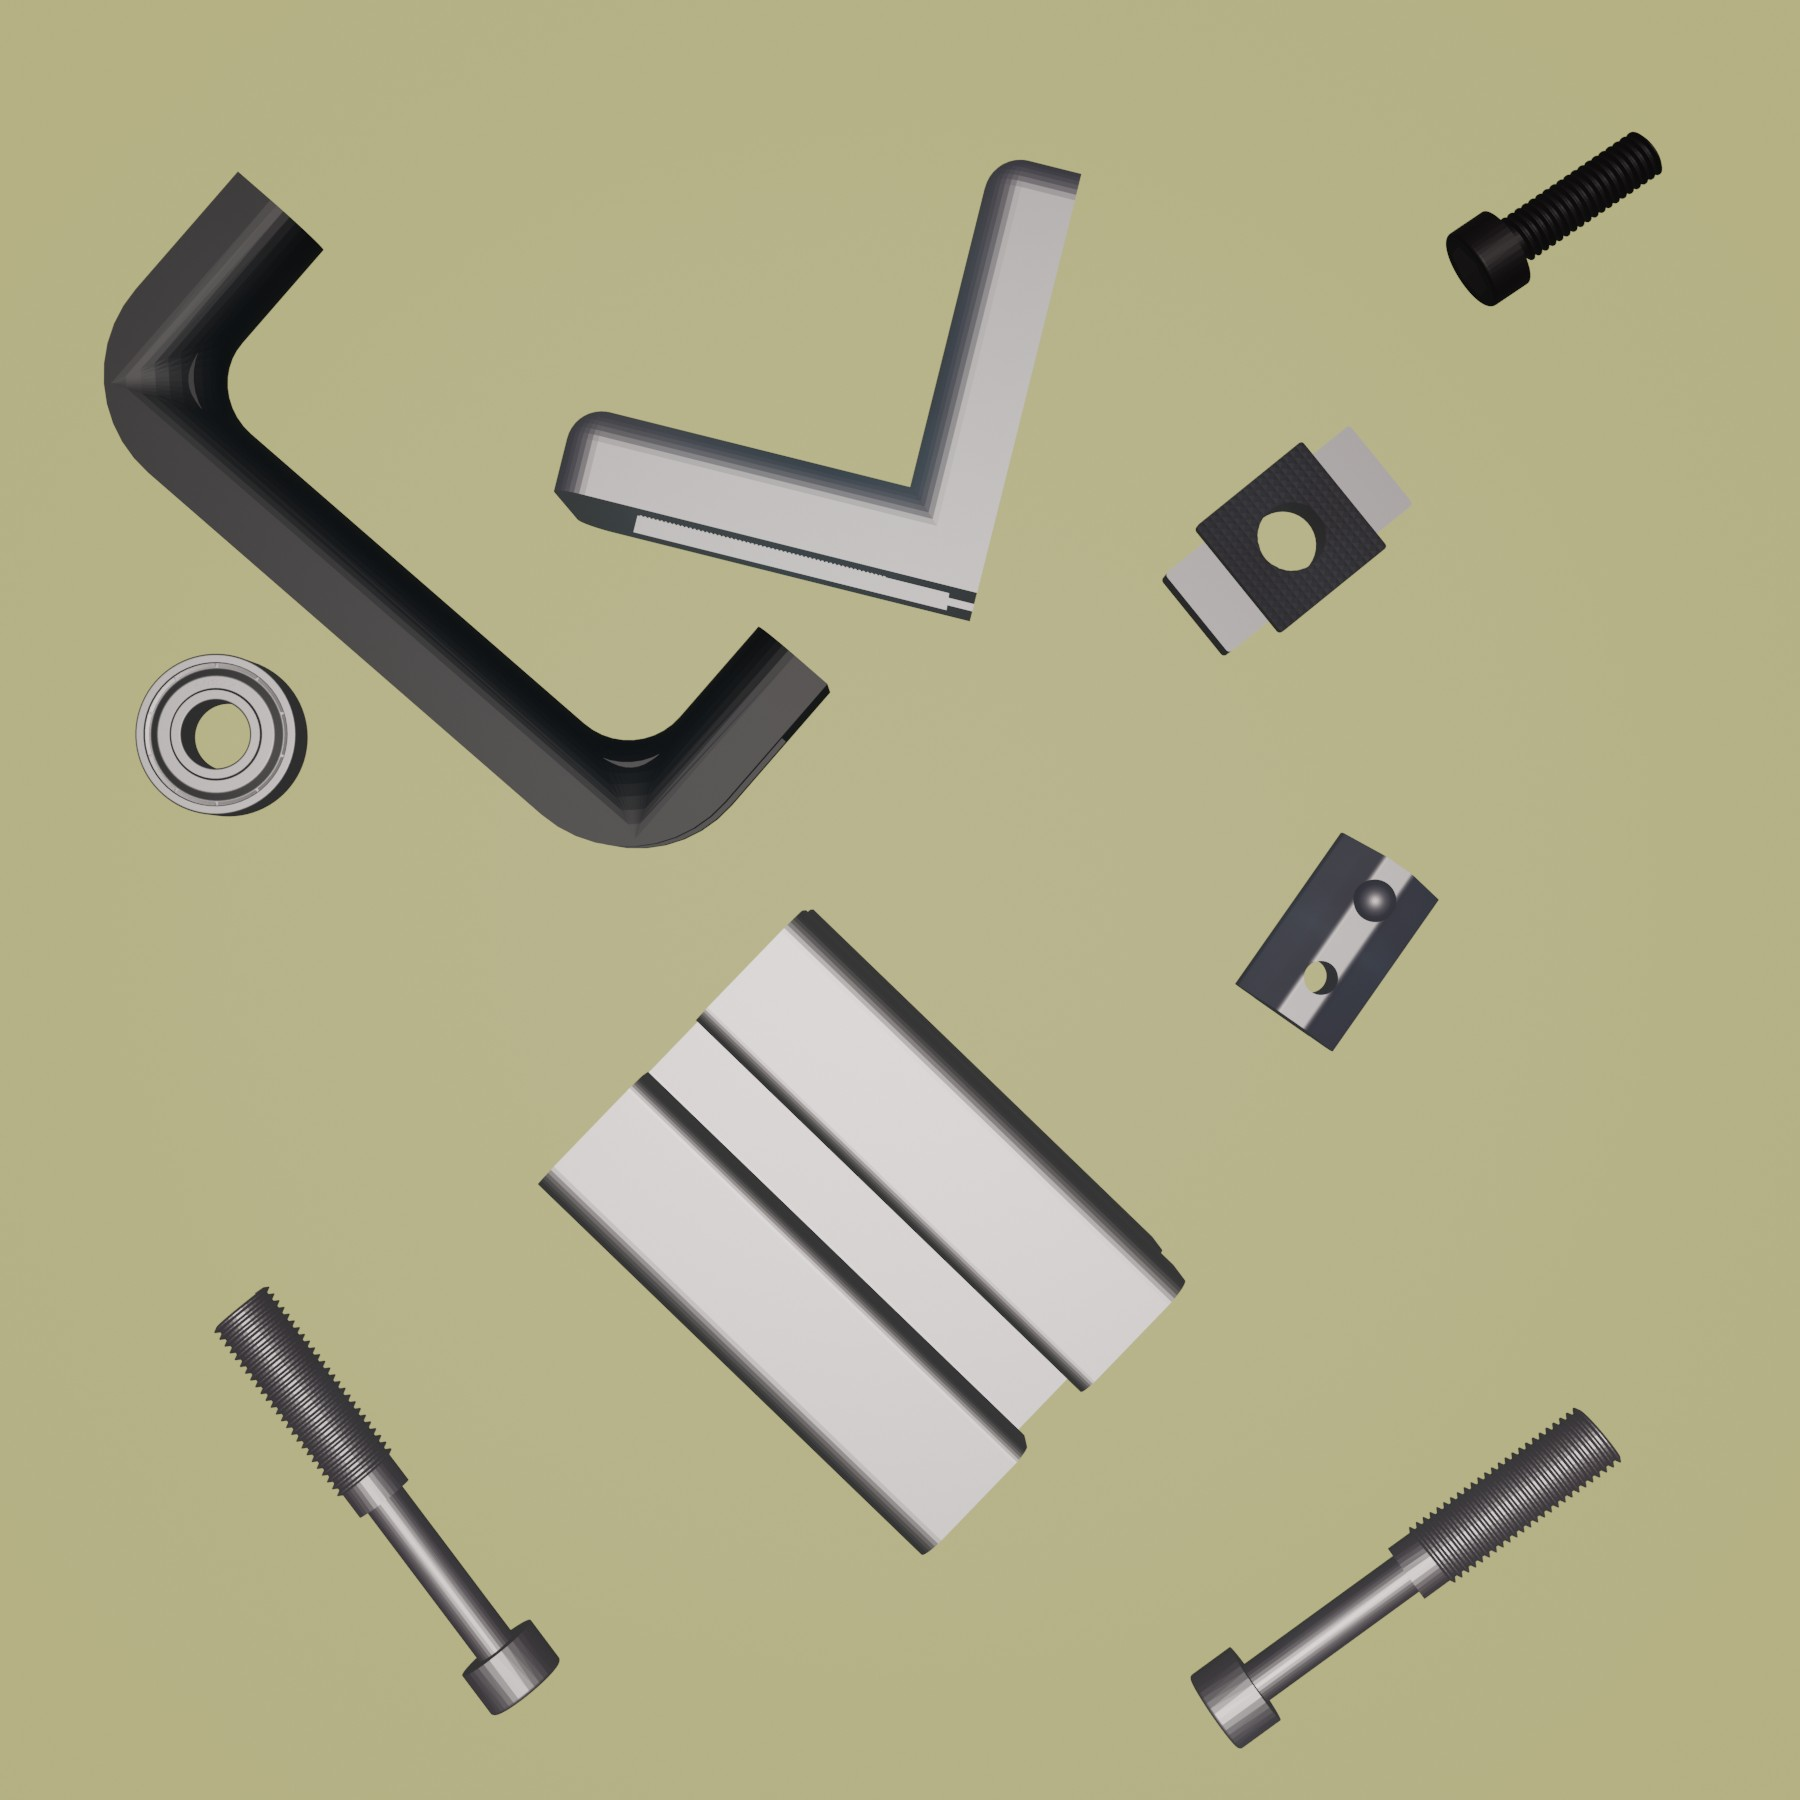Aluminium Extension: (536, 903, 1187, 1558)
Ball Bearing: (130, 651, 308, 819)
Multiwinkel: (554, 157, 1081, 623)
Pull Handle: (101, 168, 832, 851)
Shoulder Socket Head Cap Screw: (1188, 1403, 1624, 1751), (213, 1286, 559, 1718)
Socket Head Cap Screw: (1444, 127, 1665, 308)
T Nut Square: (1159, 425, 1413, 654)
T Spring Nut: (1231, 834, 1442, 1052)
